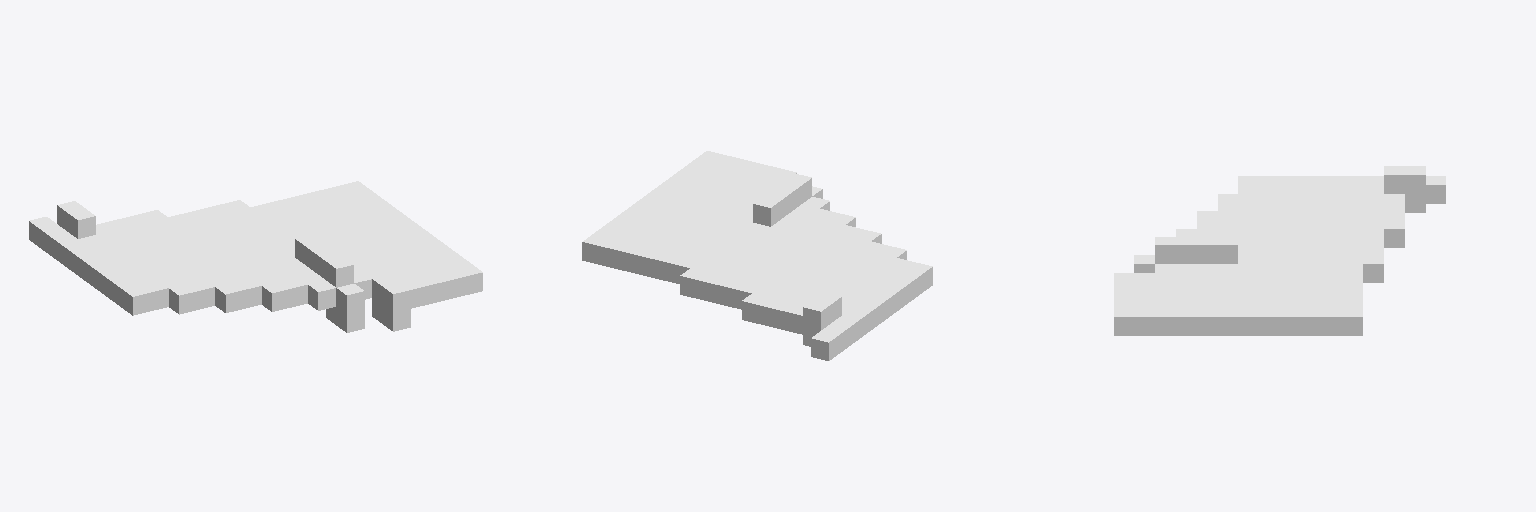
The model's file is Extra-1-CamoJet_Wing_R.obj.
The picture shows the model from 3 angles: view 1: azimuth 30°, elevation 25°; view 2: azimuth 150°, elevation 25°; view 3: azimuth 270°, elevation 25°; orthographic projection.
Parts seen in each view (by area): view 1: CamoJet_Wing_R; view 2: CamoJet_Wing_R; view 3: CamoJet_Wing_R.
Boxes of the visible parts, x1,y1,x2,y2 form: CamoJet_Wing_R: [29, 181, 482, 332]; CamoJet_Wing_R: [582, 151, 932, 360]; CamoJet_Wing_R: [1114, 166, 1445, 335].
Size of the model in its own units: 1.6 by 0.3 by 1.6.